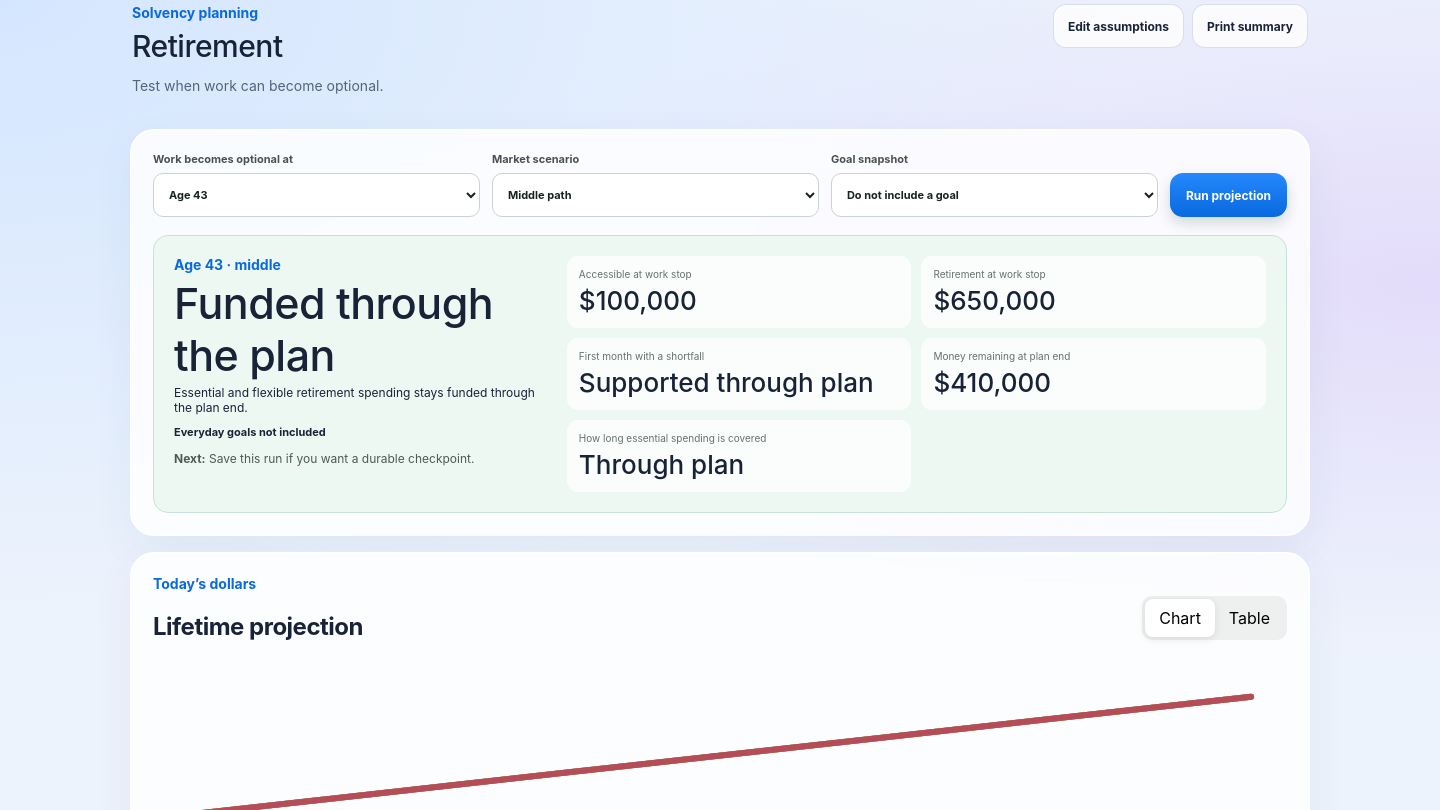
Test: Retirement › shows the Rough path bridge verdict
This screenshot has width=1440, height=810.
Expected: the heading "Funded through the plan" is shown, 174,277 -> 547,381
Select "Rough path" in the dropdown named "Retirement path" at [656, 195], box 492,173 -> 819,217
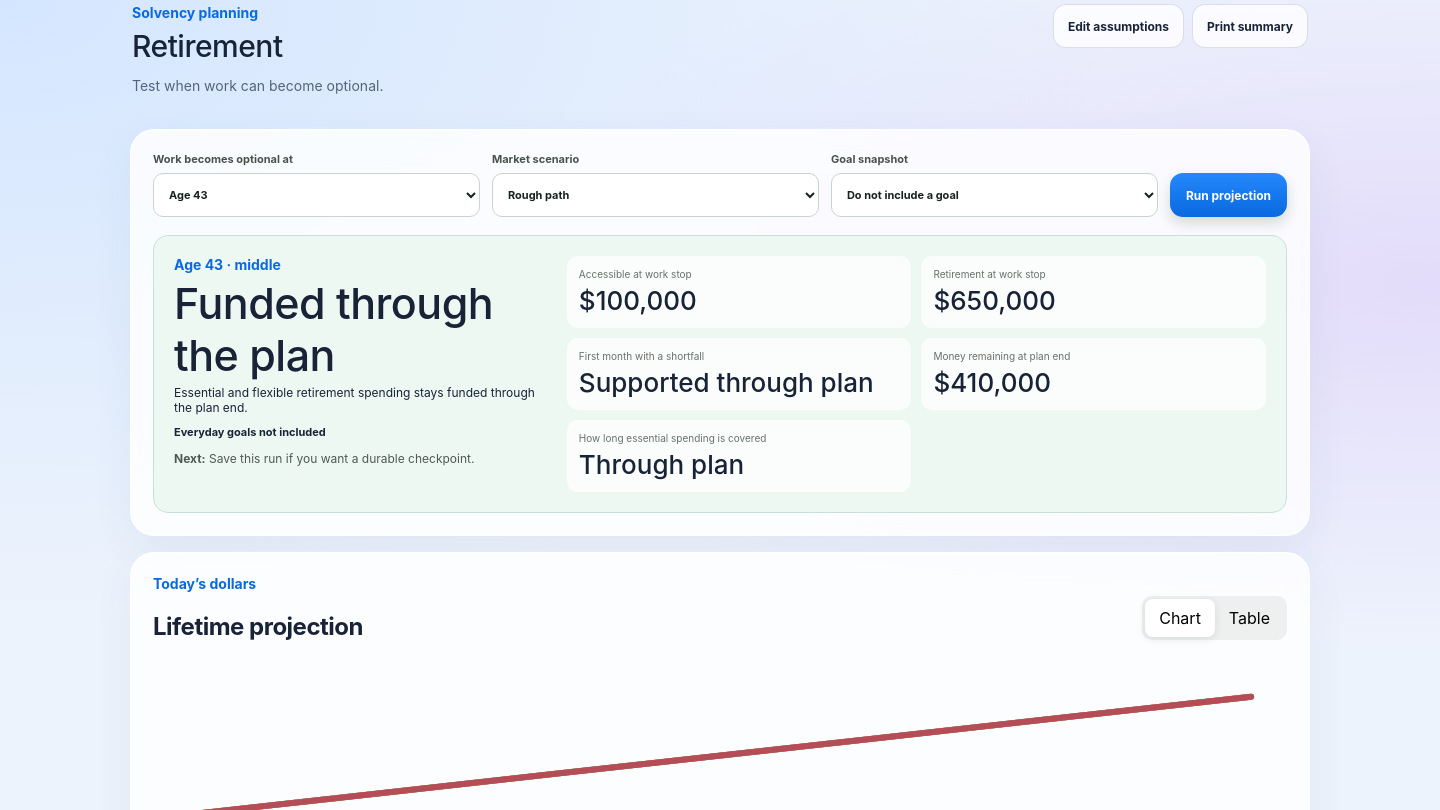
Click the button "Run projection" at [1228, 195], box 1170,173 -> 1287,217
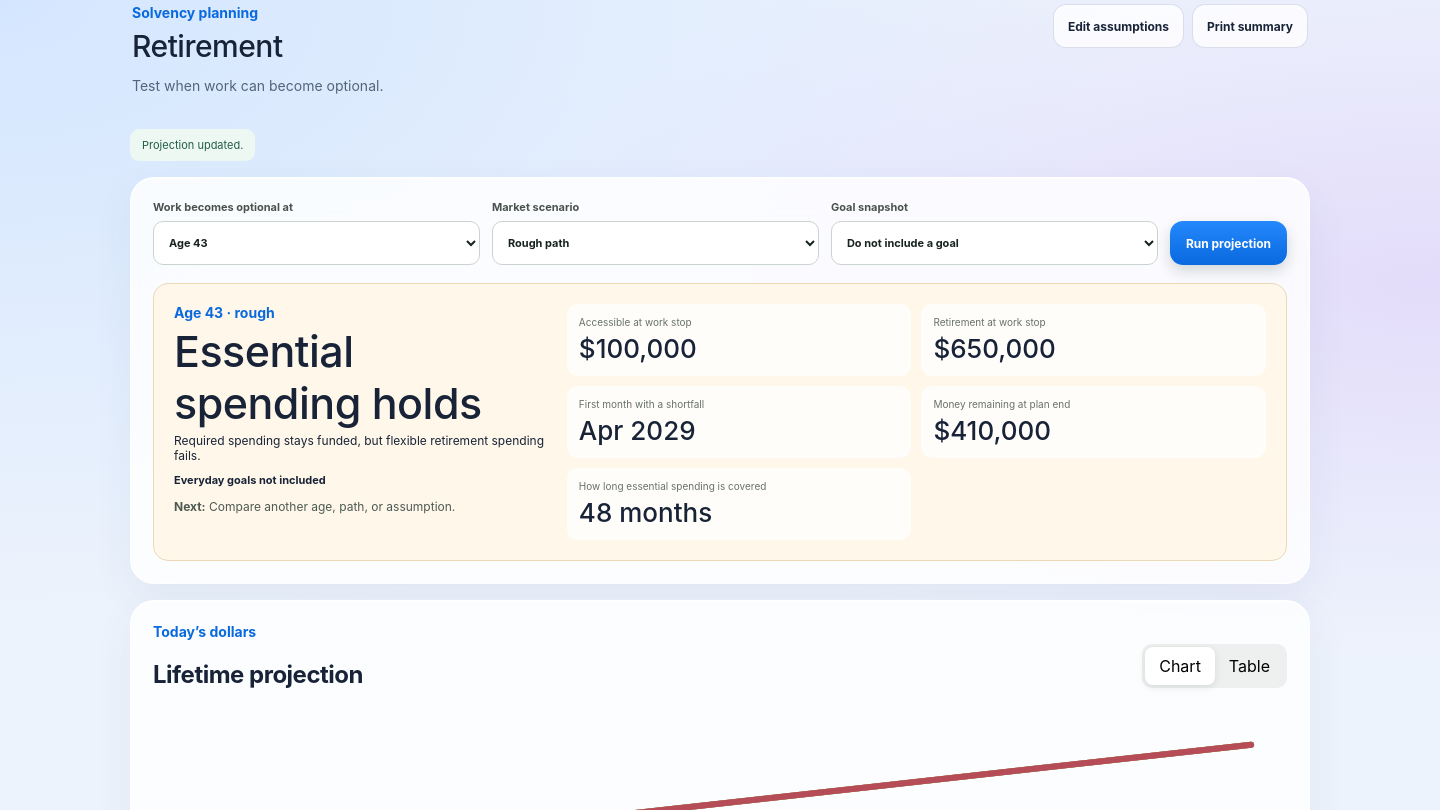
Expected: the heading "Essential spending holds" is shown, 174,325 -> 482,429
